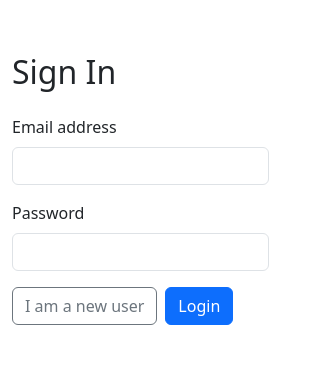
Login Component › toggles between new user and existing user modes
Click the button "I am a new user".
click(85, 306)  # box [12, 287, 157, 325]
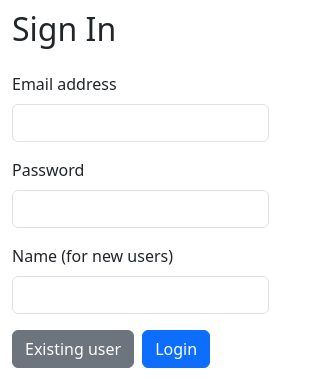
Expected: the field labelled "Name (for new users)" is shown, [12, 276, 269, 314]
Click the button "I am a new user".
click(73, 349)  # box [12, 330, 134, 368]
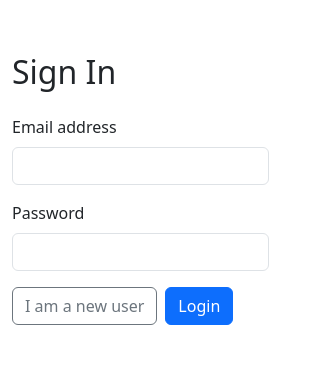
Expected: the label labelled "Name (for new users)" is gone
